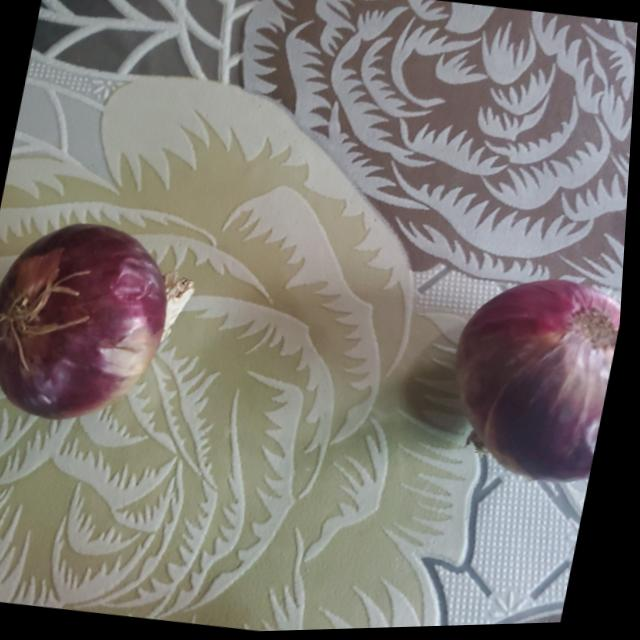onion: (0, 208, 192, 433), (443, 264, 627, 487)
